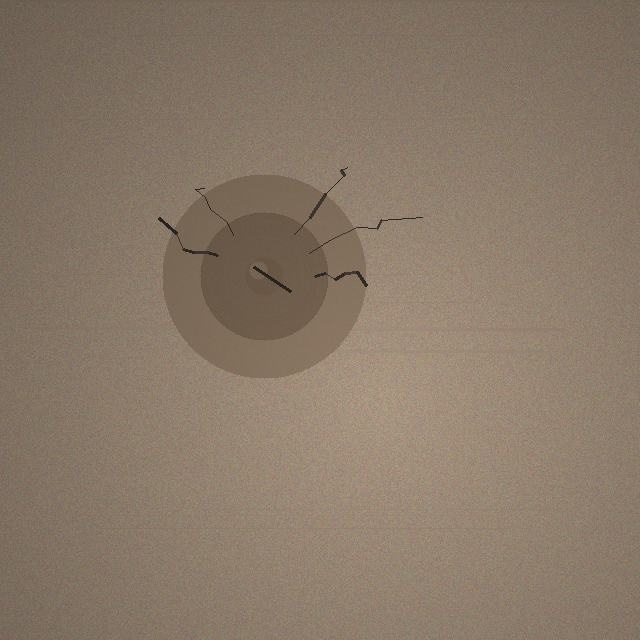crack: (162, 174, 366, 378)
